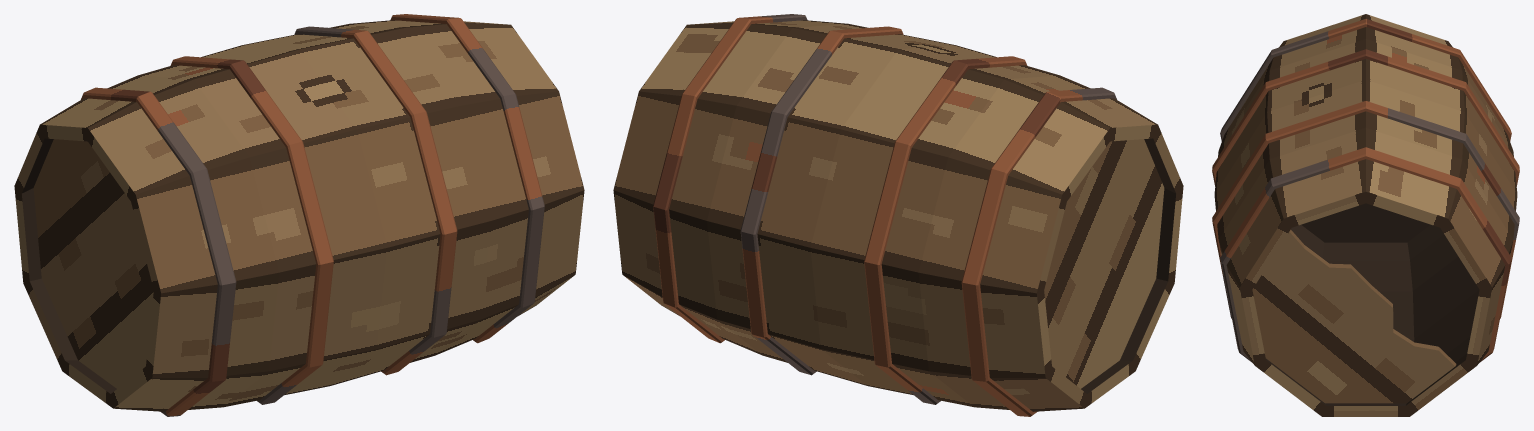
The picture shows the model from 3 angles, left to right: view 1: azimuth 30°, elevation 25°; view 2: azimuth 150°, elevation 25°; view 3: azimuth 270°, elevation 25°; orthographic projection. The views are drawn at different scales.
Visible parts, largest first — view 1: matte_舱里木桶, metal_四道铁箍; view 2: matte_舱里木桶, metal_四道铁箍; view 3: matte_舱里木桶, metal_四道铁箍.
Part boxes in pixels (left/top/right/bottom): matte_舱里木桶: left=14, top=20, right=584, bottom=411; metal_四道铁箍: left=81, top=14, right=544, bottom=416; matte_舱里木桶: left=613, top=20, right=1183, bottom=411; metal_四道铁箍: left=653, top=14, right=1116, bottom=416; matte_舱里木桶: left=1214, top=14, right=1517, bottom=416; metal_四道铁箍: left=1212, top=19, right=1519, bottom=362.
Bounding box in the file's own units: 0.82 × 0.5912 × 0.6003.
2 materials, 2 textured.
